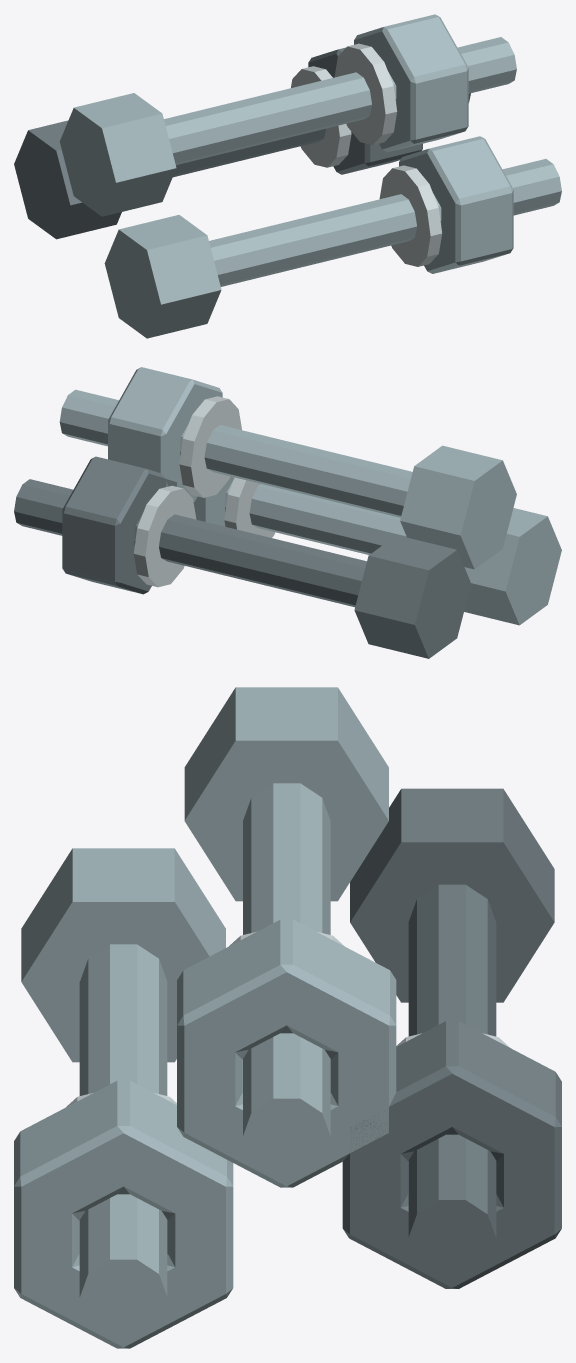
The model's file is FTF_Product_MetalConnector_Drop.glb.
3 views of the same model, one above another, from view 1: azimuth 30°, elevation 25°; view 2: azimuth 150°, elevation 25°; view 3: azimuth 270°, elevation 25° (orthographic). The views are drawn at different scales.
Parts seen in each view (by area): view 1: MetalConnector_Mesh; view 2: MetalConnector_Mesh; view 3: MetalConnector_Mesh.
Part boxes in pixels (box(x1,y1,x2,y2)): MetalConnector_Mesh: box(14, 14, 561, 338); MetalConnector_Mesh: box(14, 367, 561, 658); MetalConnector_Mesh: box(14, 687, 561, 1348).
Size of the model in its own units: 0.3585 by 0.174 by 0.2251.
